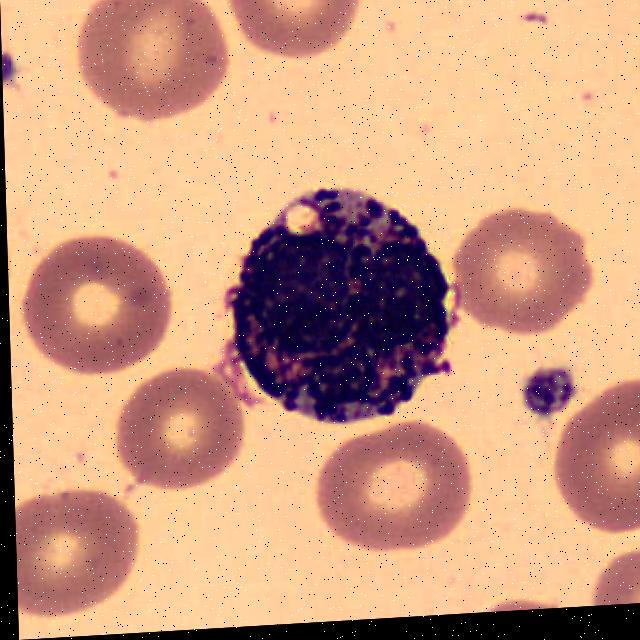basophil: (223, 184, 455, 418)
platelets: (524, 365, 580, 428)
rbc: (21, 230, 181, 374), (313, 418, 482, 551), (463, 185, 596, 351), (61, 0, 238, 120), (14, 471, 163, 610), (110, 365, 247, 491), (560, 389, 640, 531), (226, 0, 376, 58), (579, 547, 640, 607), (479, 586, 564, 613)
